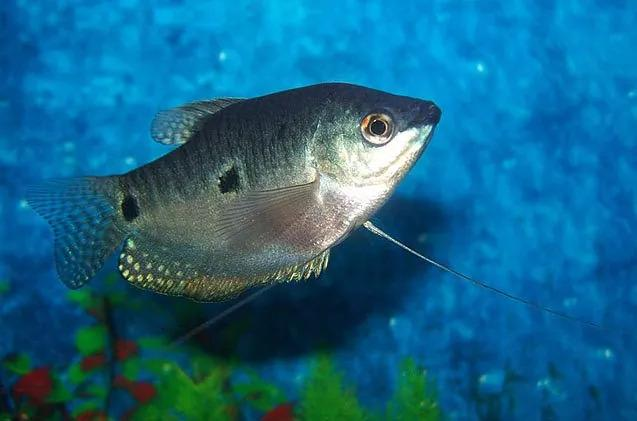Gourami: (23, 80, 623, 363)
